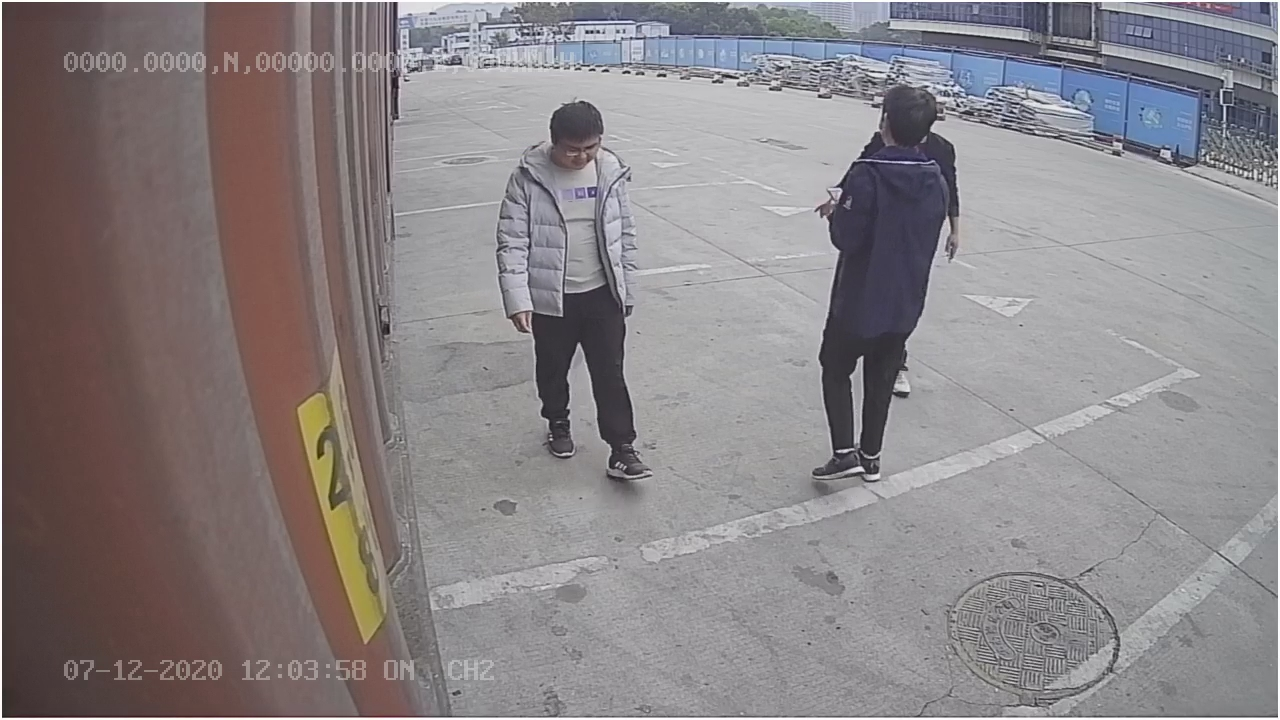person: (491, 93, 660, 488)
